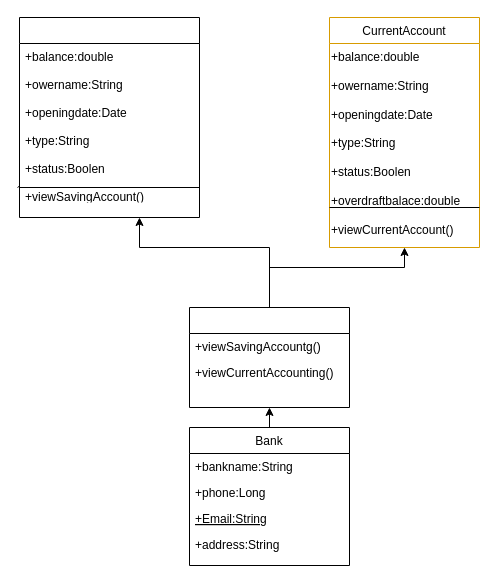
This 498x583 diagram has some shape labels left out. The box of each missing label's shape, as (x1, y1, x2, y2) in pixels:
AccountType: (188, 306, 350, 408)
SavingAcoount: (18, 16, 200, 218)
